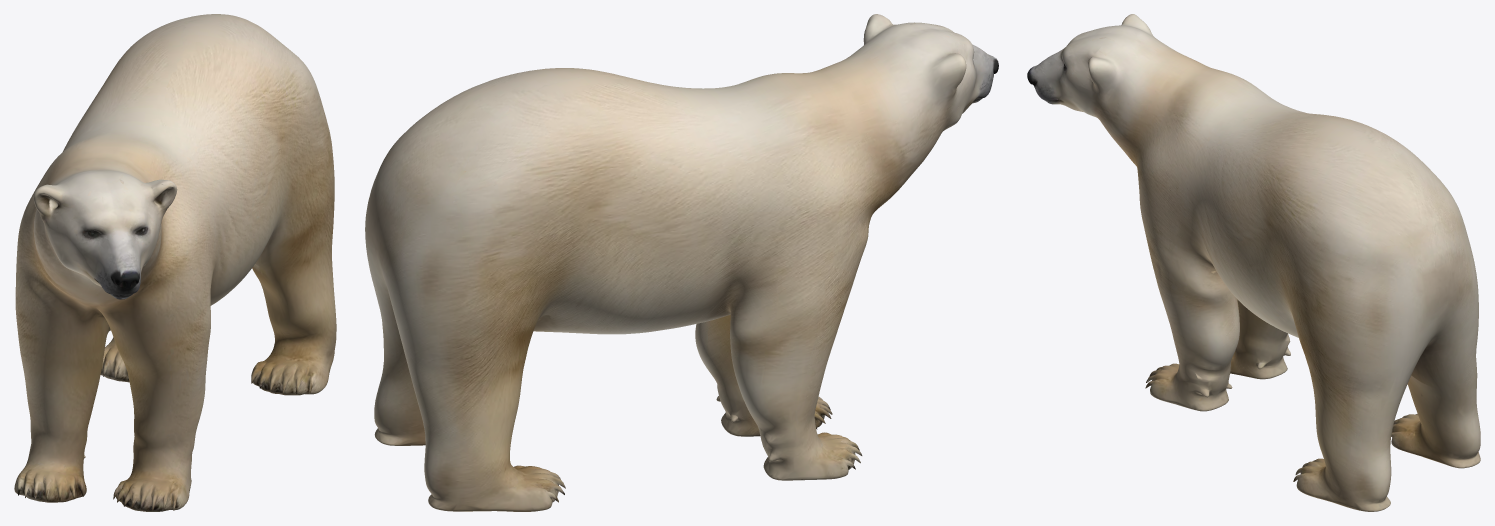
File: polar-bear.glb
3 views of the same model, side by side, from view 1: azimuth 30°, elevation 25°; view 2: azimuth 150°, elevation 25°; view 3: azimuth 270°, elevation 25° (orthographic). The views are drawn at different scales.
Visible parts, largest first — view 1: node_0; view 2: node_0; view 3: node_0.
Part boxes in pixels (x1,y1,x2,y2): node_0: [14, 14, 336, 511]; node_0: [365, 14, 998, 511]; node_0: [1027, 14, 1480, 511].
Bounding box in the file's own units: 0.8204 × 0.677 × 0.8584.
Materials: 1 (1 with a texture image).
